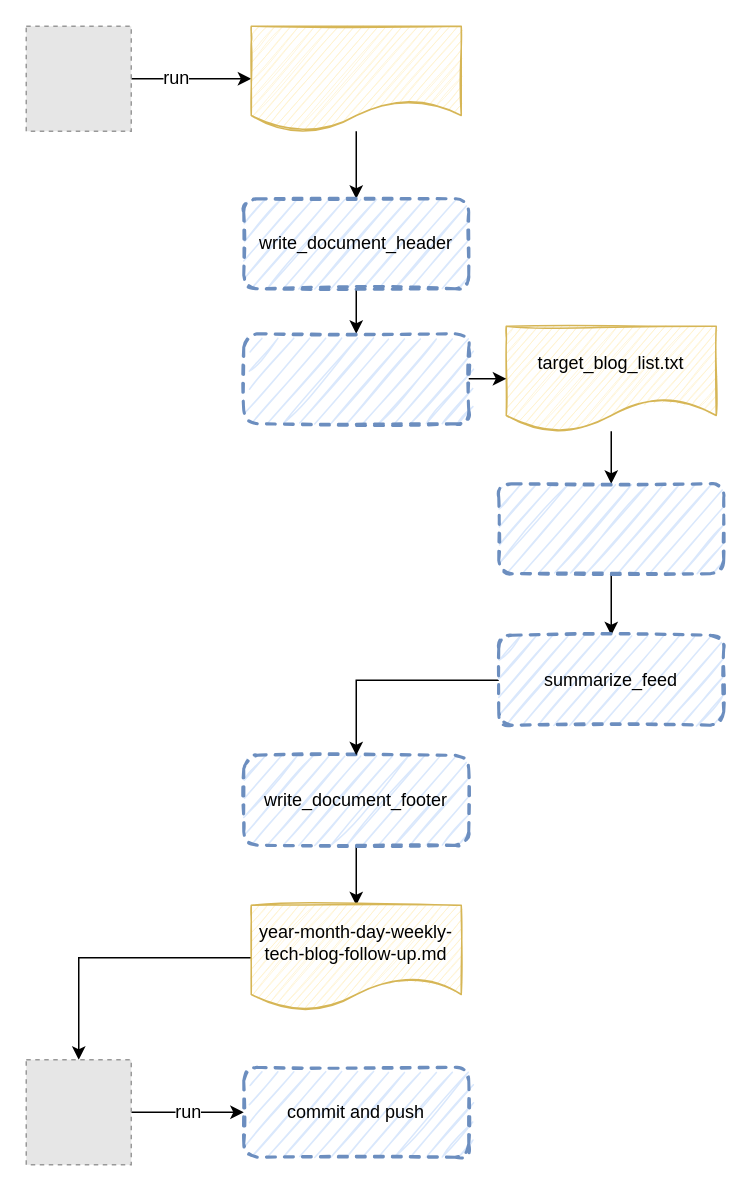
Image size: 752x1191. Some labels were removed from this diagram. Grey dashed boxes stand in for pictures. Each missing label, with the centre of its shape:
main.py: (355,78)
parse_feed: (610,528)
write_blog_contents: (356,378)
